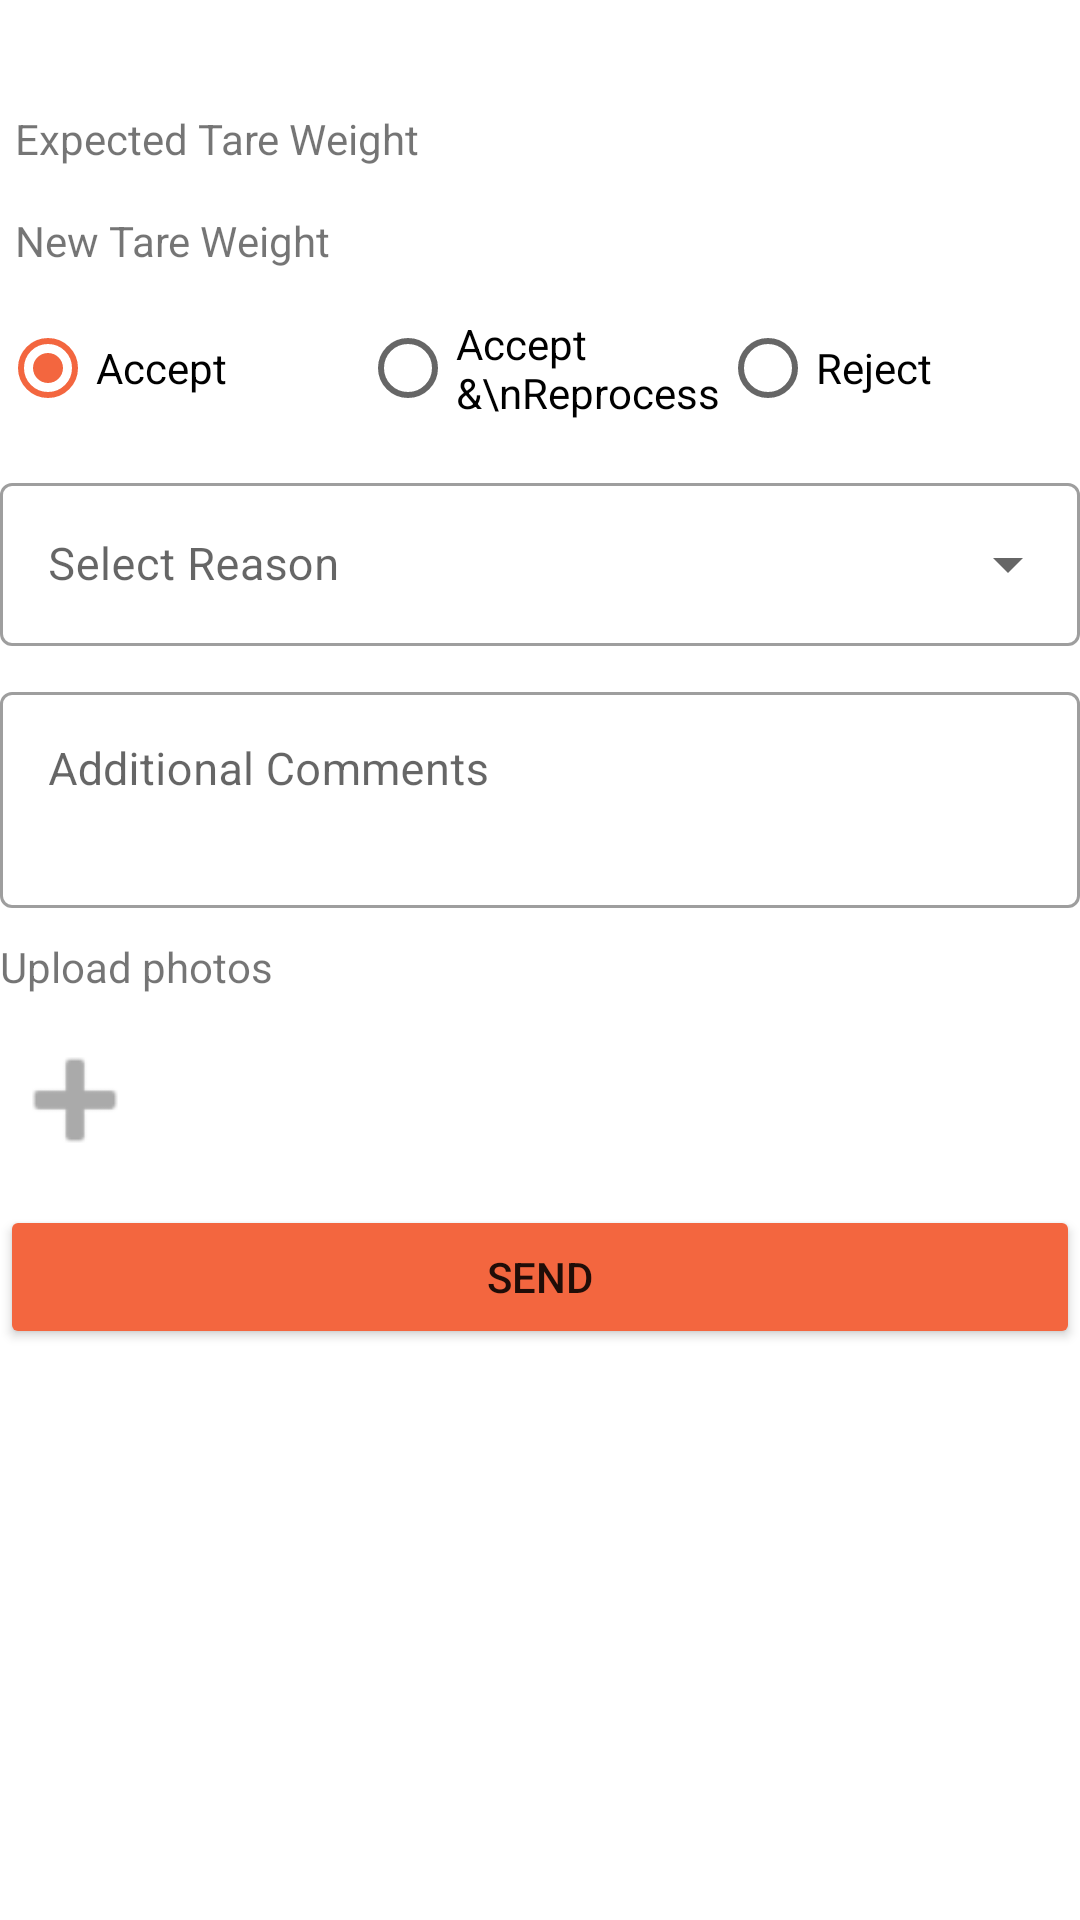

Named icons in this screenshot (1080px×1920px) and their bounding boxes, rect(x1, y1, x2, y2):
add: rect(33, 1059, 117, 1141)
